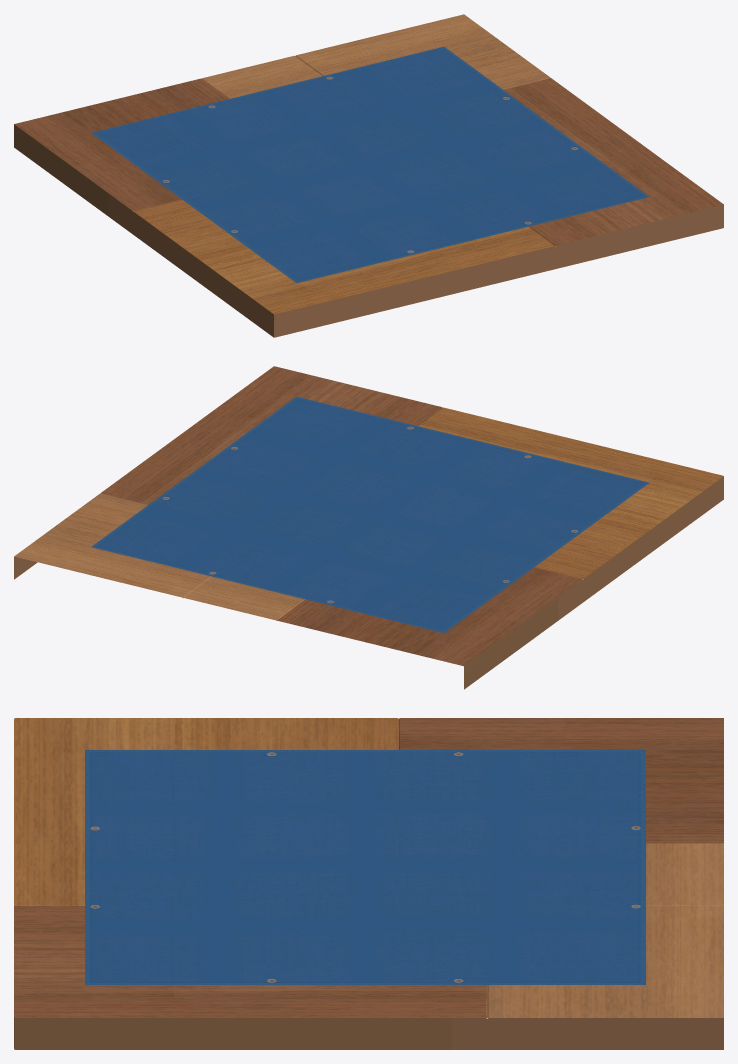
Rendered from Floor.glb.
3 renders of one model, top to bottom at view 1: azimuth 30°, elevation 25°; view 2: azimuth 150°, elevation 25°; view 3: azimuth 270°, elevation 25°, orthographic. The views are drawn at different scales.
Parts seen in each view (by area): view 1: Floor; view 2: Floor; view 3: Floor.
Boxes of the visible parts, <box> form: Floor: <box>14,14,723,337</box>; Floor: <box>14,366,723,689</box>; Floor: <box>14,718,723,1049</box>.
Bounding box in the file's own units: 6.67 × 0.3361 × 6.68.
Materials: 1 (1 with a texture image).
